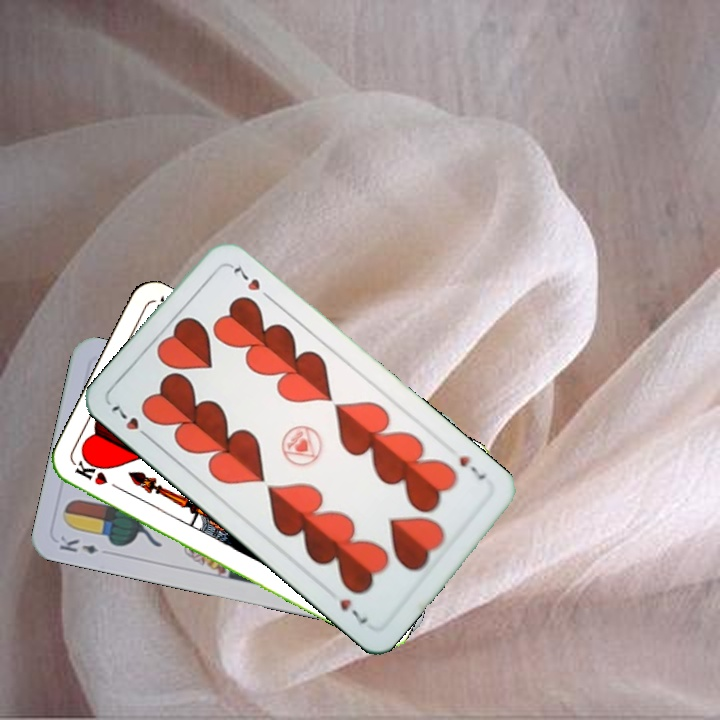EK: (55, 532, 101, 557)
H7: (107, 401, 155, 443), (455, 451, 489, 482)
HK: (71, 458, 127, 495)
